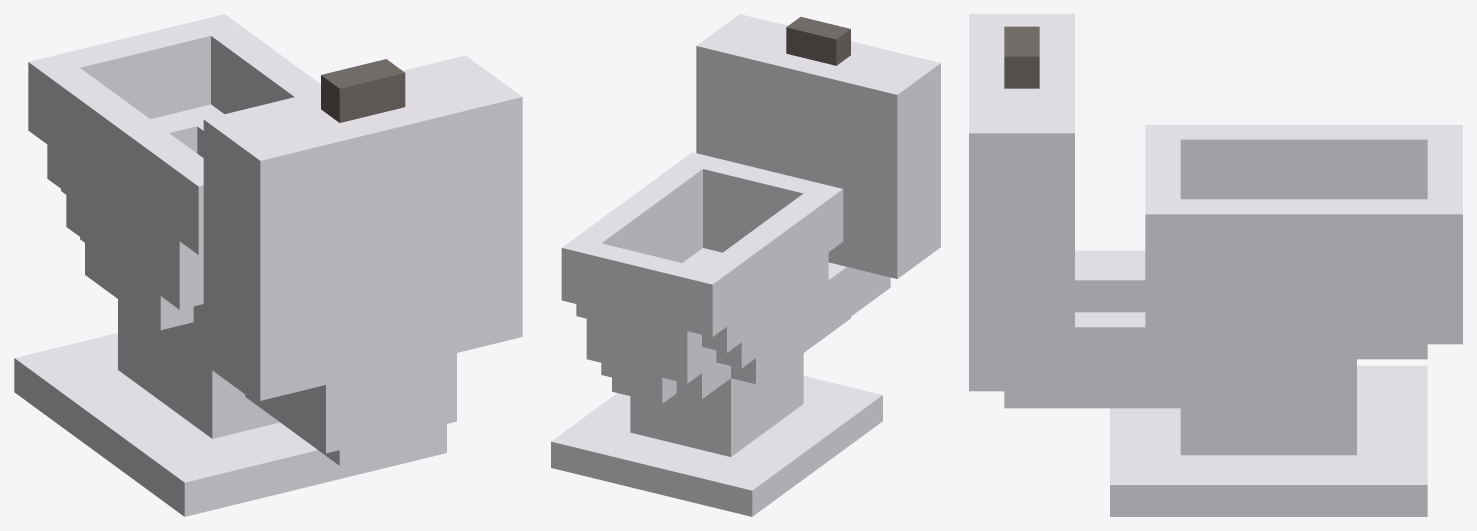
File: privada.obj
3 renders of one model, left to right at view 1: azimuth 30°, elevation 25°; view 2: azimuth 150°, elevation 25°; view 3: azimuth 270°, elevation 25°, orthographic. The views are drawn at different scales.
Parts seen in each view (by area): view 1: Model; view 2: Model; view 3: Model.
Part boxes in pixels (x1,y1,x2,y2): Model: [14, 14, 522, 516]; Model: [551, 14, 940, 516]; Model: [969, 14, 1462, 516].
Bounding box in the file's own units: 18.29 × 29.71 × 32.
Materials: 1 (1 with a texture image).
